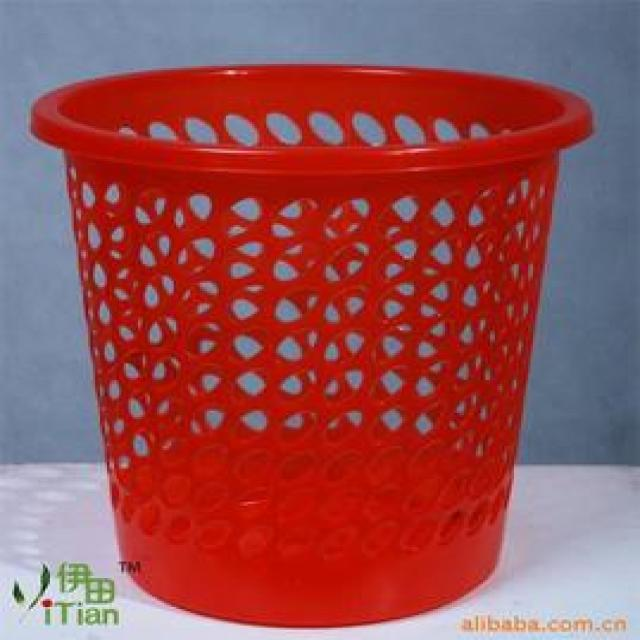dustbin: (25, 52, 598, 628)
